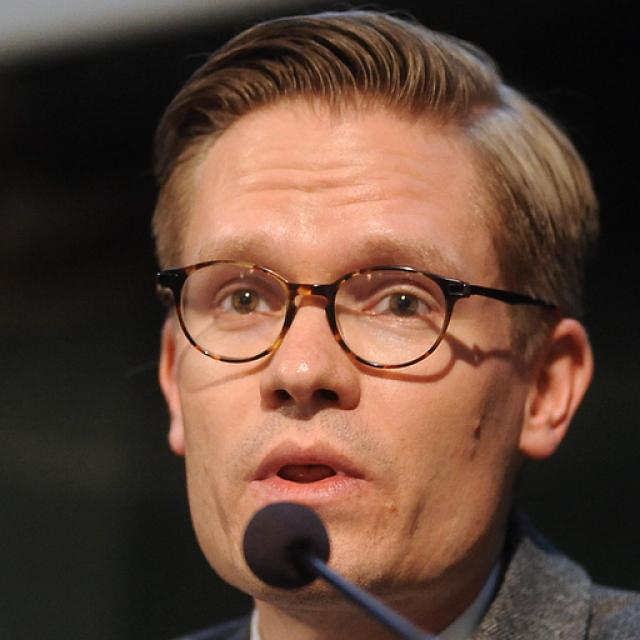Acne: (455, 412, 491, 446)
